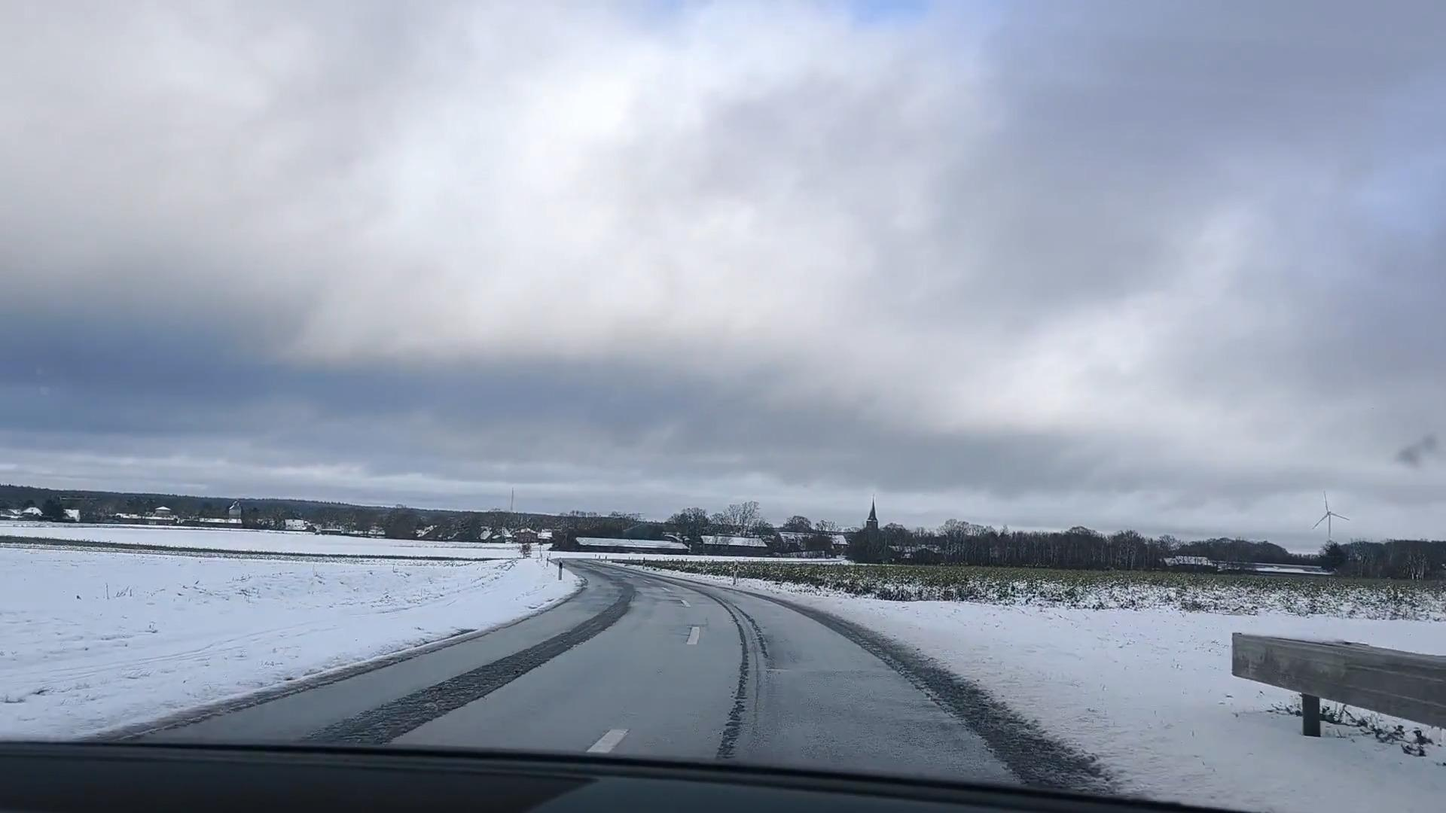Snow: (685, 571, 1446, 813), (0, 542, 584, 741)
ice: (133, 559, 1100, 788)
